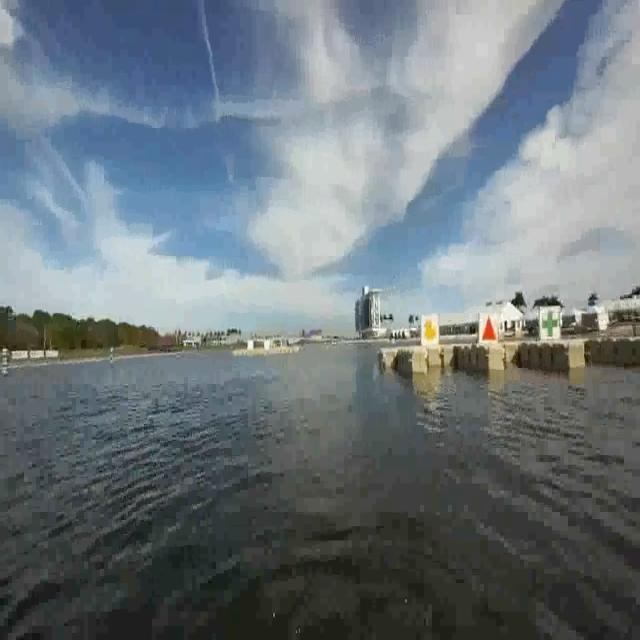blue-cross: (539, 305, 560, 341)
red-dot: (481, 306, 497, 346)
yellow-duck: (422, 310, 440, 346)
